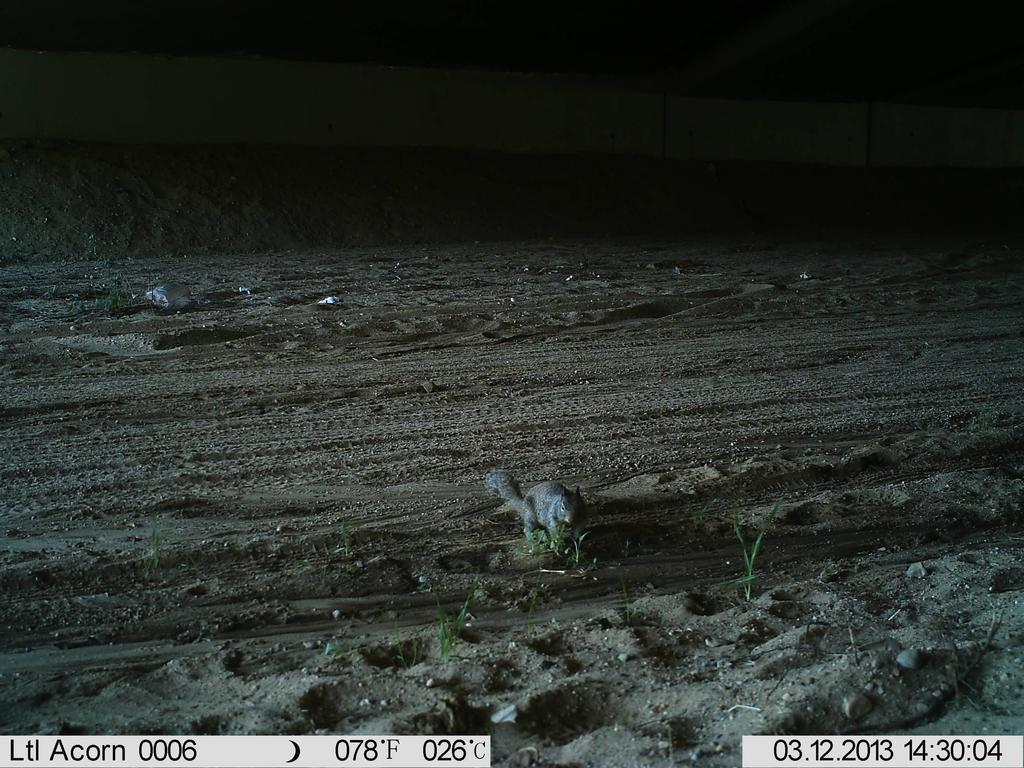squirrel: (479, 456, 599, 569)
